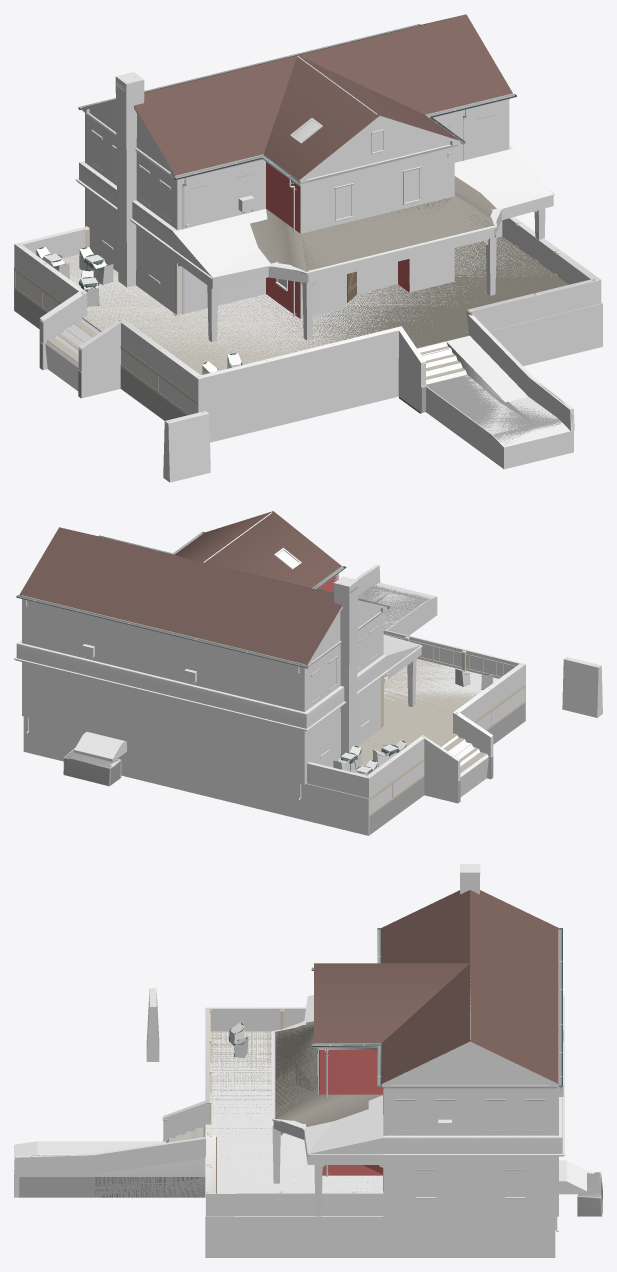
File: eca_bld_inn.DAE
The picture shows the model from 3 angles, top to bottom: view 1: azimuth 30°, elevation 25°; view 2: azimuth 150°, elevation 25°; view 3: azimuth 270°, elevation 25°; orthographic projection. The views are drawn at different scales.
Visible parts, largest first — view 1: Colmesh-1, eca_bld_inn500, eca_bld_inn10; view 2: Colmesh-1, eca_bld_inn500, eca_bld_inn100; view 3: Colmesh-1, eca_bld_inn500, eca_bld_inn10, eca_bld_inn100.
Part boxes in pixels (x1=…): Colmesh-1: x1=14, y1=55, x2=602, y2=482; eca_bld_inn500: x1=14, y1=14, x2=600, y2=446; eca_bld_inn10: x1=220, y1=186, x2=568, y2=423; Colmesh-1: x1=16, y1=512, x2=602, y2=835; eca_bld_inn500: x1=14, y1=511, x2=598, y2=835; eca_bld_inn100: x1=15, y1=578, x2=465, y2=737; Colmesh-1: x1=14, y1=864, x2=602, y2=1257; eca_bld_inn500: x1=14, y1=865, x2=602, y2=1231; eca_bld_inn10: x1=95, y1=1024, x2=382, y2=1197; eca_bld_inn100: x1=207, y1=865, x2=564, y2=1193.
Size of the model in its own units: 22.89 by 26.12 by 11.63.
